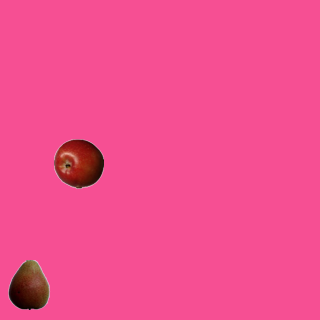Apple Braeburn: (53, 138, 103, 188)
Pear Forelle: (3, 259, 53, 309)
